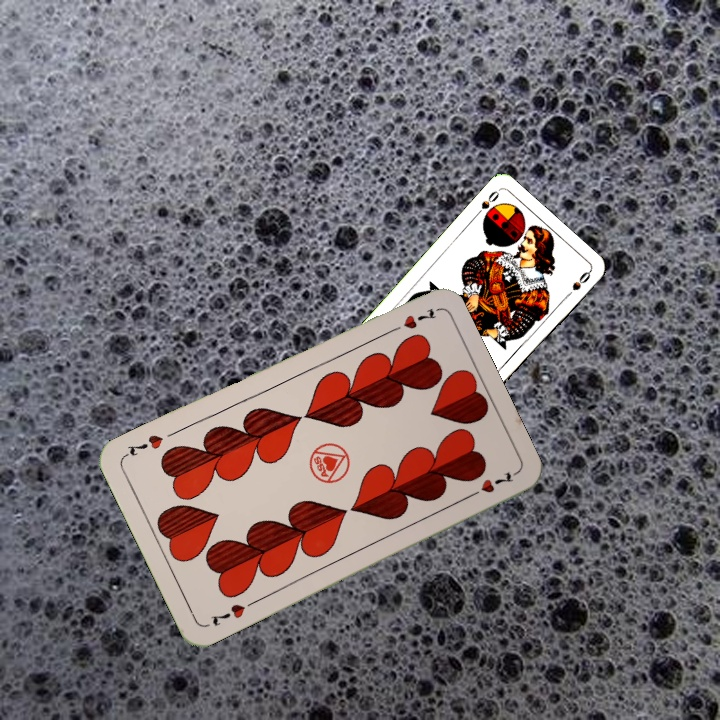H7: (384, 304, 439, 337), (206, 596, 259, 629)
SO: (471, 186, 502, 219)
